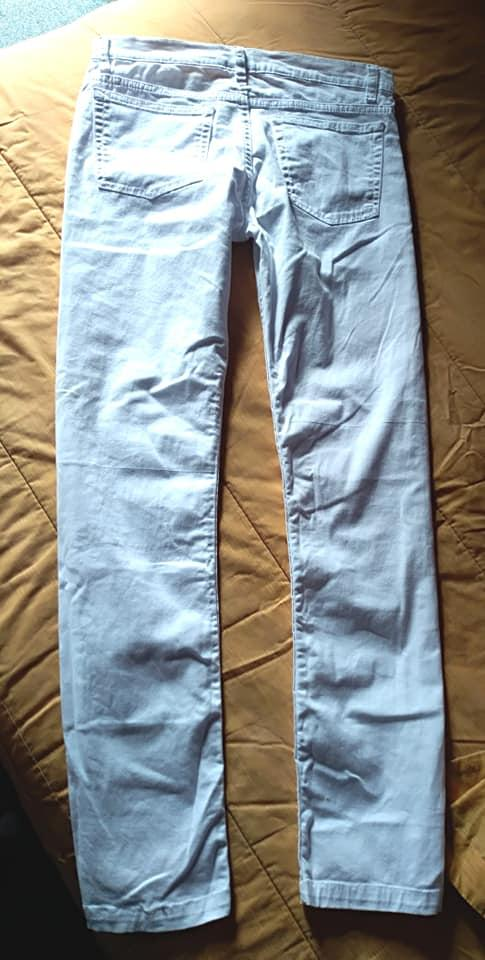Jeans: (47, 25, 461, 960)
